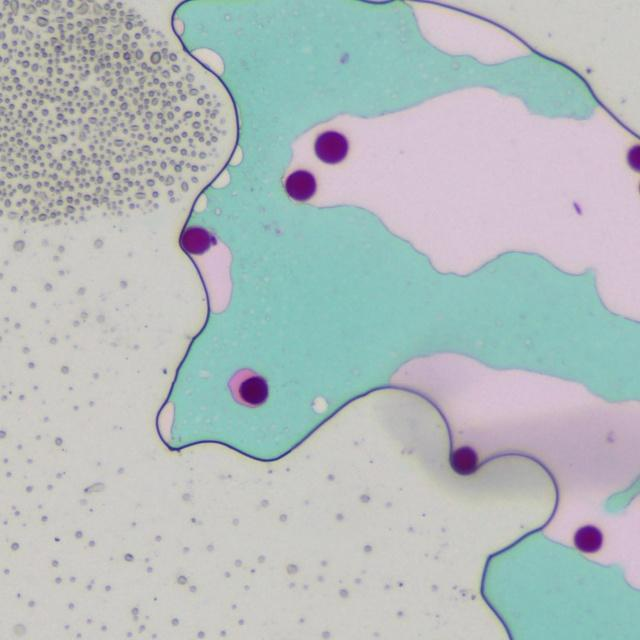viable: (315, 131, 348, 163), (181, 227, 216, 254), (285, 170, 315, 200), (240, 376, 267, 405), (574, 525, 602, 552), (451, 447, 477, 474), (628, 145, 639, 171)
